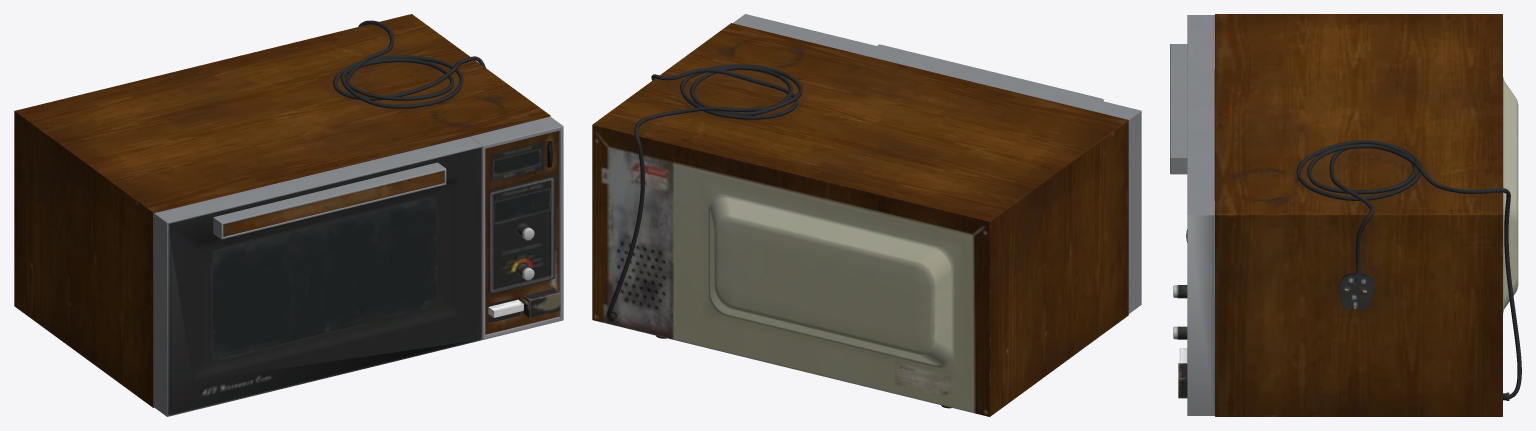
File: vintage_microwave.2588295c.glb
The picture shows the model from 3 angles, left to right: view 1: azimuth 30°, elevation 25°; view 2: azimuth 150°, elevation 25°; view 3: azimuth 270°, elevation 25°; orthographic projection. The views are drawn at different scales.
Parts seen in each view (by area): view 1: vintage_microwave; view 2: vintage_microwave; view 3: vintage_microwave.
Part boxes in pixels (x1,y1,x2,y2): vintage_microwave: (14, 14, 563, 416); vintage_microwave: (592, 14, 1141, 416); vintage_microwave: (1170, 14, 1521, 416).
Size of the model in its own units: 0.95 by 0.4652 by 0.6597.
Materials: 2 (2 with a texture image).
